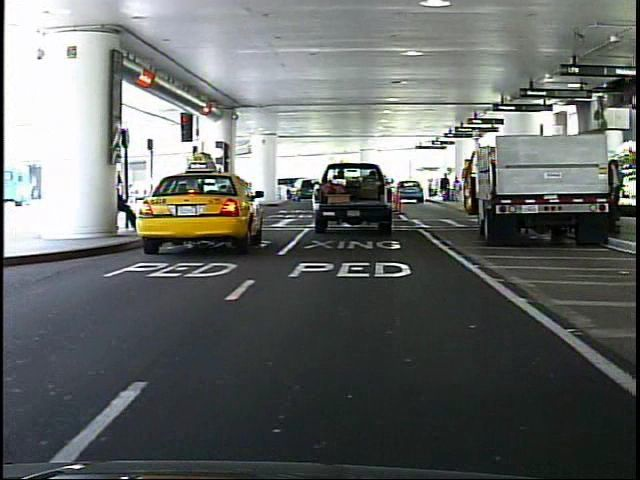person: (116, 169, 140, 233), (189, 167, 210, 216)
